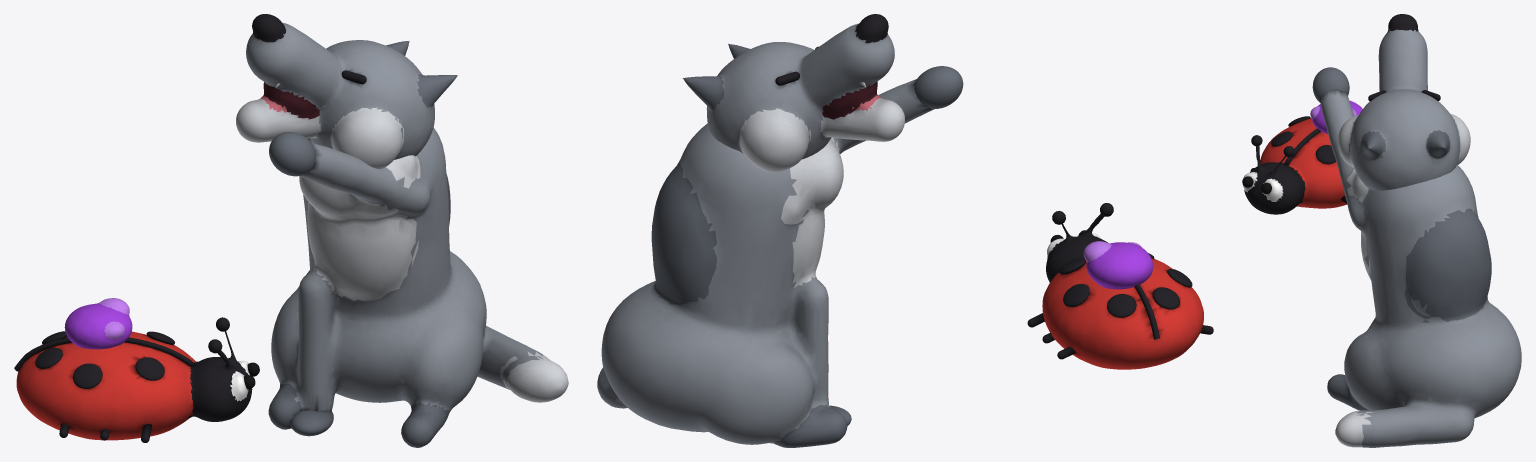
File: ingen-orsak.glb
3 renders of one model, left to right at view 1: azimuth 30°, elevation 25°; view 2: azimuth 150°, elevation 25°; view 3: azimuth 270°, elevation 25°, orthographic. The views are drawn at different scales.
Parts seen in each view (by area): view 1: lobo__r0, cabeca__r0, joaninha__r0, ingua__r0, lobo__r2, lobo__r1, joaninha__r17, joaninha__r14, joaninha__r12; view 2: lobo__r0, cabeca__r0, joaninha__r0, ingua__r0, lobo__r2; view 3: lobo__r0, cabeca__r0, joaninha__r0, lobo__r2, ingua__r0, joaninha__r7.
Part boxes in pixels (<box>): lobo__r0: <box>268,128,568,447</box>; cabeca__r0: <box>236,14,457,169</box>; joaninha__r0: <box>16,331,252,440</box>; ingua__r0: <box>64,298,132,349</box>; lobo__r2: <box>269,132,315,176</box>; lobo__r1: <box>290,410,333,436</box>; joaninha__r17: <box>14,337,195,371</box>; joaninha__r14: <box>73,363,102,388</box>; joaninha__r12: <box>135,357,164,380</box>; lobo__r0: <box>597,79,933,447</box>; cabeca__r0: <box>683,14,904,172</box>; joaninha__r0: <box>1042,213,1203,369</box>; ingua__r0: <box>1083,241,1153,289</box>; lobo__r2: <box>914,66,963,109</box>; lobo__r0: <box>1320,90,1521,447</box>; cabeca__r0: <box>1338,14,1470,190</box>; joaninha__r0: <box>1242,118,1346,214</box>; lobo__r2: <box>1312,67,1349,102</box>; ingua__r0: <box>1310,100,1362,133</box>; joaninha__r7: <box>1315,145,1336,164</box>.
Size of the model in its own units: 2.99 by 2.25 by 1.67.
